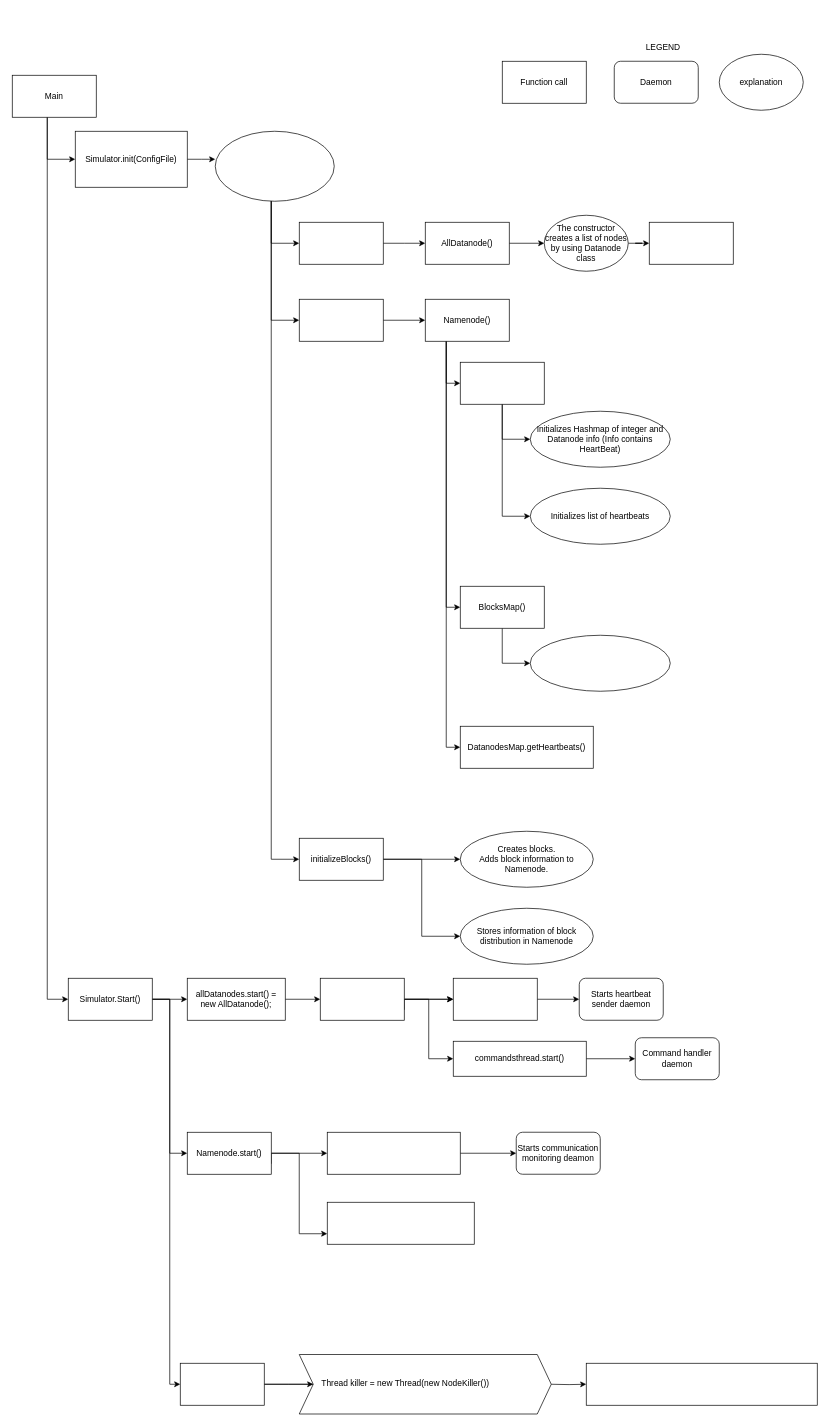
This 830x1426 diagram has some shape labels left out. The shapes that lost their labels are listed below. From the top down, each one's centre as x and y in pixels, then its label:
At [274,166]: "Initializes Namenode, DataNode and blocks. Using corresponding functions".
At [341,243]: "initializeDatanodes()".
At [691,243]: "Datanode() Initilalize node details".
At [341,320]: "initializeNamnode()".
At [502,383]: "DatanodesMap()".
At [600,663]: "Initializes Hashmap of integer and Block info".
At [362,999]: "new AllDatanode();".
At [495,999]: "hbthread.start()".
At [393,1153]: "communicationthread.start()".
At [400,1223]: "pendingReplications = new PendingReplicationBlocks()".
At [222,1384]: "StartFailure()".
At [701,1384]: "Simulator.getallDatanodes().killNode(e.getSource());".
